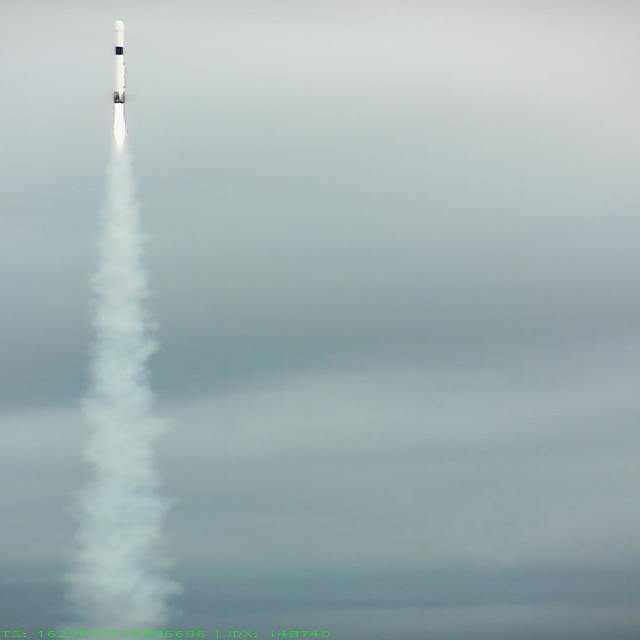Rocket: (113, 19, 127, 103)
